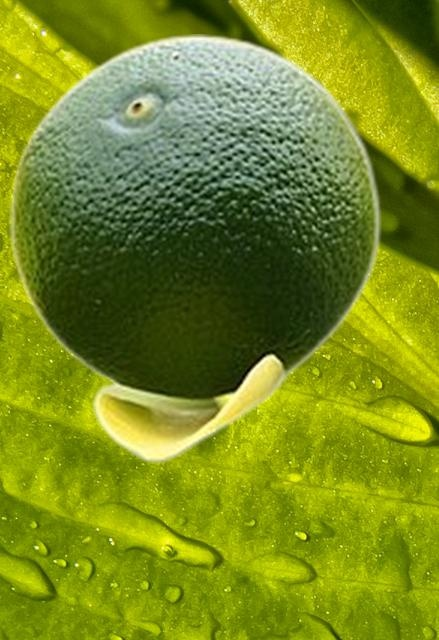calamansi: (9, 34, 380, 462)
